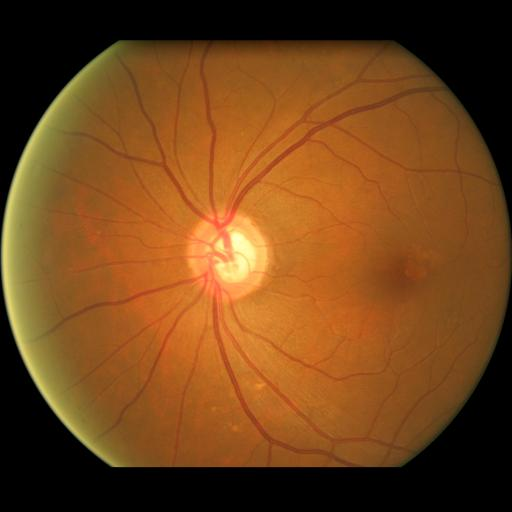Optic Cup: (211, 229, 257, 282)
Optic Disc: (187, 211, 268, 301)
